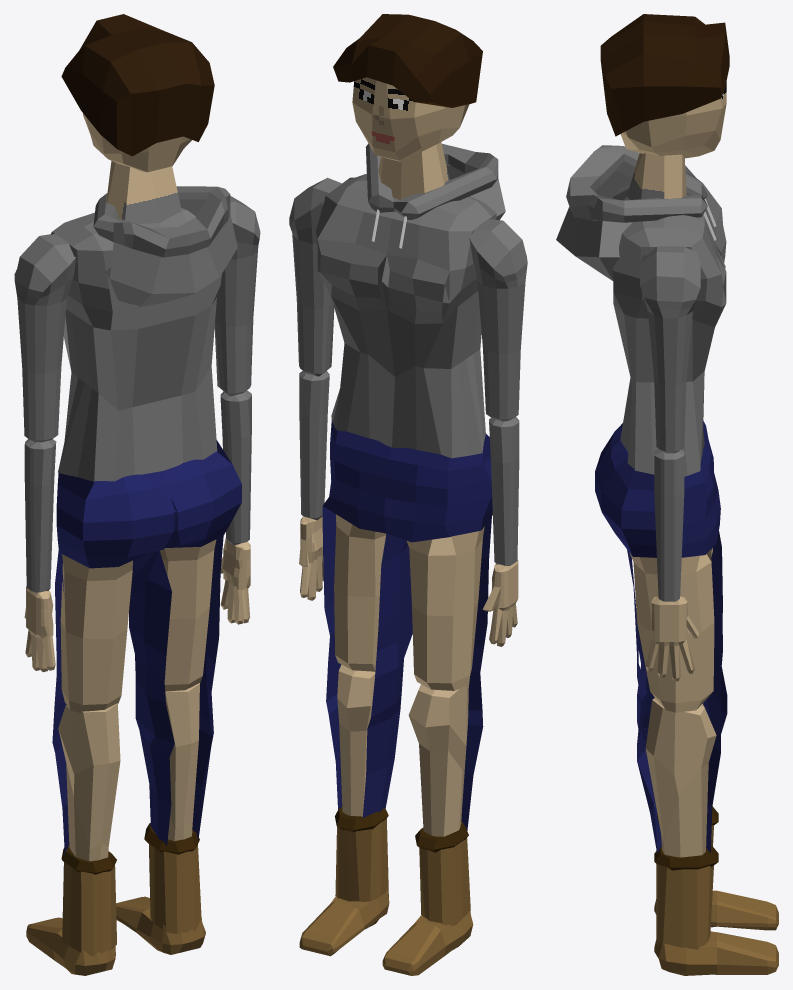
File: player_male.gltf
3 renders of one model, left to right at view 1: azimuth 30°, elevation 25°; view 2: azimuth 150°, elevation 25°; view 3: azimuth 270°, elevation 25°, orthographic. The views are drawn at different scales.
Visible parts, largest first — view 1: Torso + Neck, plane, head + hair, L Pants, hoodie, R Thigh, R Bicep, R Calve, L Bicep, L Thigh, R Boot, R Forearm (+11 smaller); view 2: Torso + Neck, plane, L Pants, R Thigh, head + hair, R Bicep, R Calve, L Thigh, L Bicep, Head, hoodie, L Calve (+11 smaller); view 3: Torso + Neck, head + hair, hoodie, L Bicep, plane, L Calve, L Thigh, L Boot, L Pants, L Forearm, L Foot, Head (+4 smaller).
Boxes of the visible parts, box(x1,y1,x2,y2) form: Torso + Neck: box(51, 161, 222, 481); plane: box(56, 440, 241, 568); head + hair: box(61, 14, 214, 156); L Pants: box(129, 536, 223, 845); hoodie: box(93, 186, 237, 306); R Thigh: box(60, 554, 132, 712); R Bicep: box(14, 234, 76, 442); R Calve: box(58, 703, 120, 861); L Bicep: box(214, 196, 260, 396); L Thigh: box(159, 539, 216, 691); R Boot: box(62, 862, 116, 956); R Forearm: box(24, 439, 56, 592); Torso + Neck: box(315, 142, 496, 458); plane: box(323, 419, 492, 542); L Pants: box(322, 506, 412, 817); R Thigh: box(406, 526, 484, 690); head + hair: box(333, 14, 482, 107); R Bicep: box(469, 219, 527, 421); R Calve: box(408, 684, 468, 836); L Thigh: box(334, 514, 386, 671); L Bicep: box(289, 177, 341, 376); Head: box(352, 77, 469, 161); hoodie: box(365, 143, 505, 248); L Calve: box(337, 664, 375, 816); Torso + Neck: box(613, 153, 726, 476); head + hair: box(600, 14, 729, 136); hoodie: box(556, 145, 716, 280); L Bicep: box(640, 246, 700, 453); plane: box(595, 421, 720, 557); L Calve: box(645, 698, 716, 857); L Thigh: box(629, 549, 714, 712); L Boot: box(656, 864, 713, 949); L Pants: box(627, 543, 722, 853); L Forearm: box(654, 449, 684, 601); L Foot: box(654, 931, 778, 975); Head: box(620, 82, 726, 158).
Size of the model in its own units: 0.1938 by 0.737 by 0.162.
Materials: 12 (12 with a texture image).
